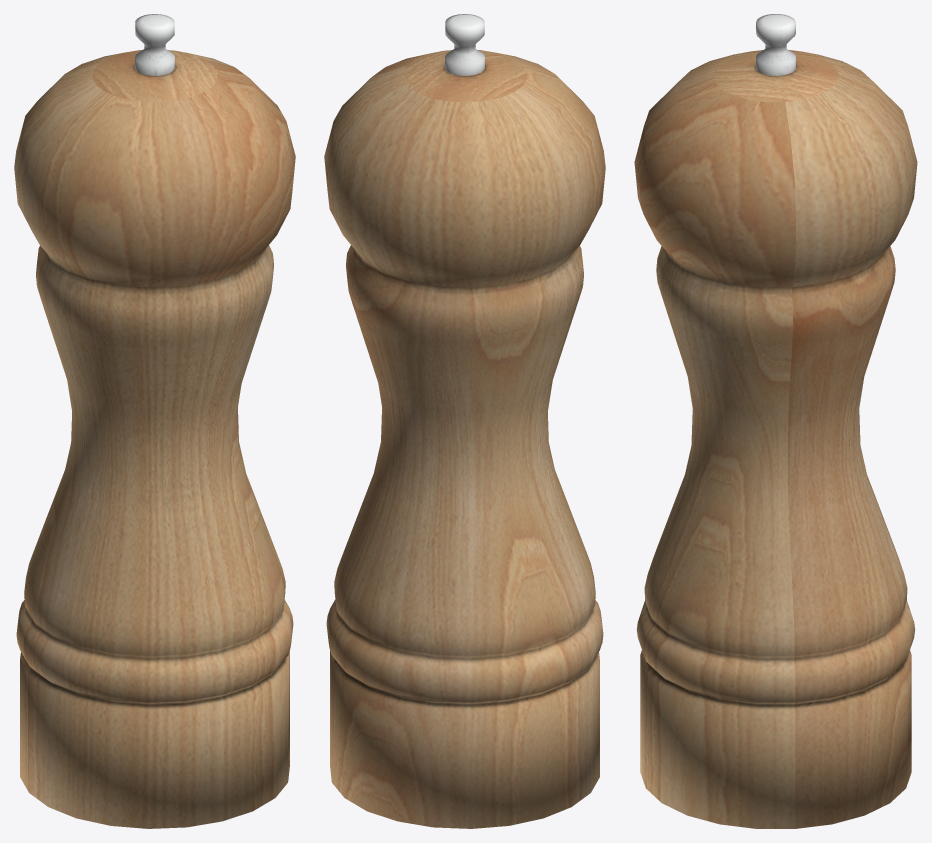
File: pepper(1).FBX
3 renders of one model, left to right at view 1: azimuth 30°, elevation 25°; view 2: azimuth 150°, elevation 25°; view 3: azimuth 270°, elevation 25°, orthographic.
Parts seen in each view (by area): view 1: pepper; view 2: pepper; view 3: pepper.
Part boxes in pixels (x1,y1,x2,y2): pepper: (14,14,295,828); pepper: (324,14,605,828); pepper: (634,14,917,828).
Size of what is drawn, in the model's own units: 6.19 by 6.25 by 18.36.
